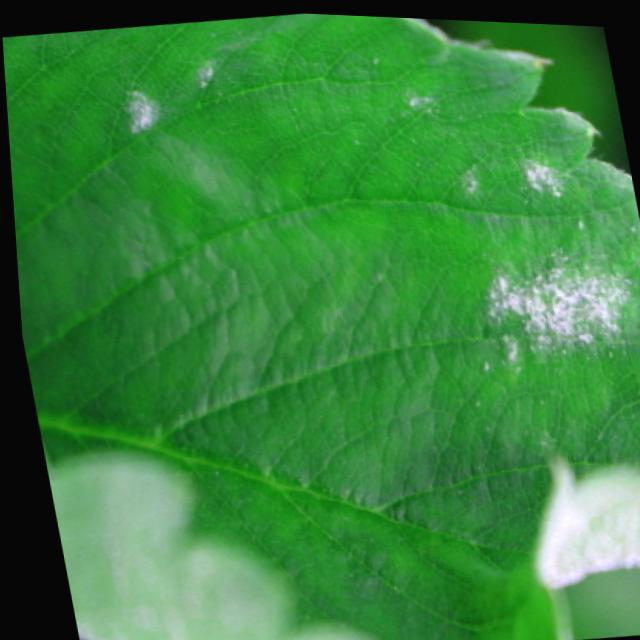Powdery Mildew Leaf: (2, 10, 640, 640)
